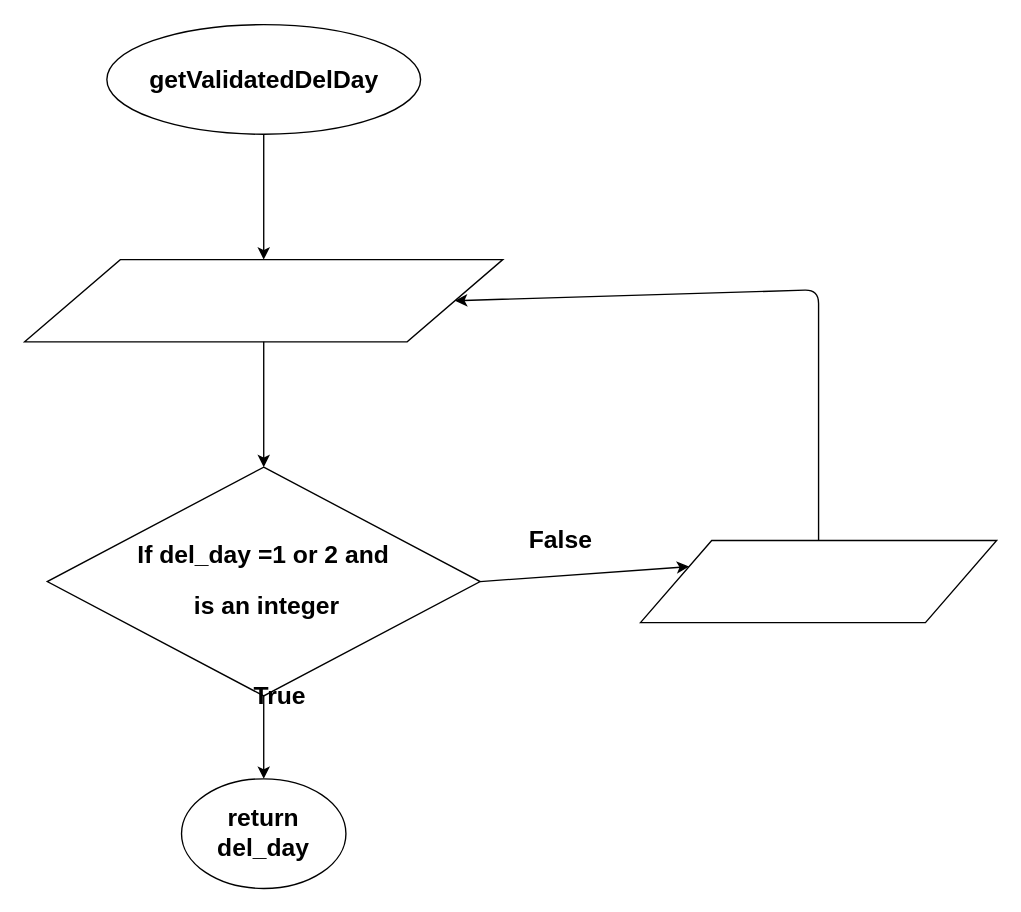
Some shapes in this 1021 by 912 pixel diagram are drawn without their labels. Each missing label, with the centre of its shape:
"Input delivery day (del_day)" goes at (263,300).
"Print Invalid Input" goes at (818,581).
